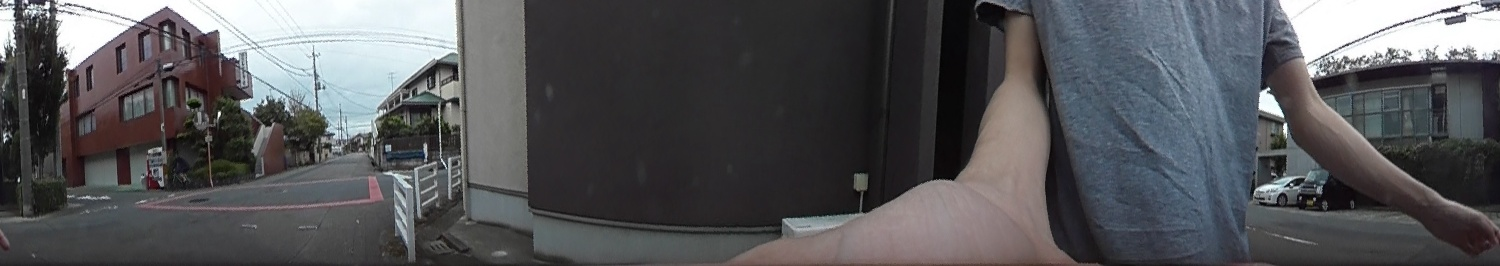person: (170, 149, 189, 185)
